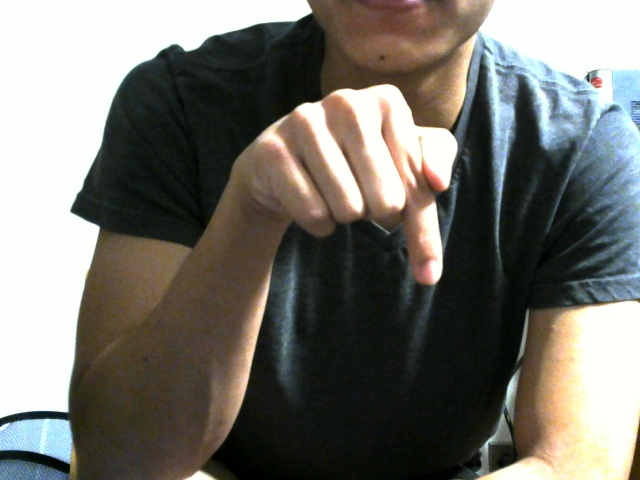down: (184, 53, 529, 327)
